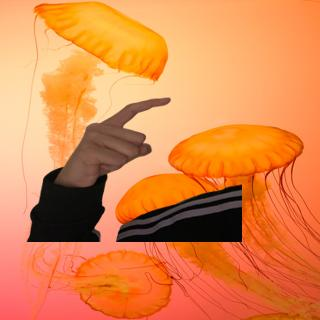WHY: (52, 88, 182, 186)
